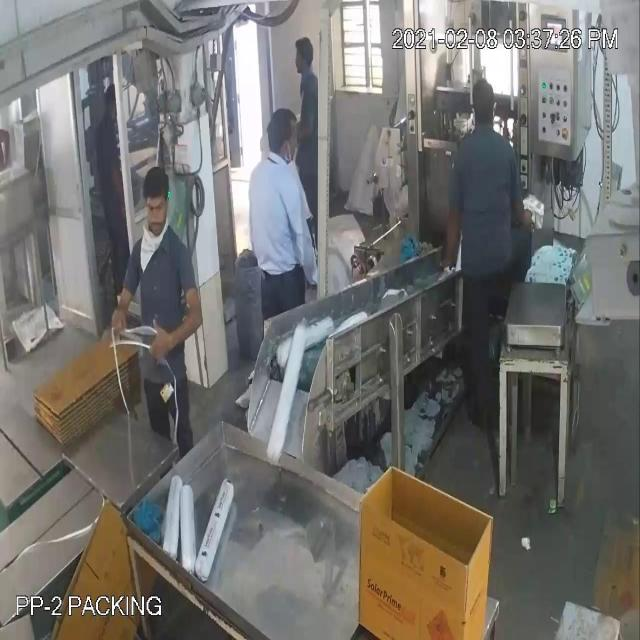No_Gloves: (41, 64, 177, 318)
